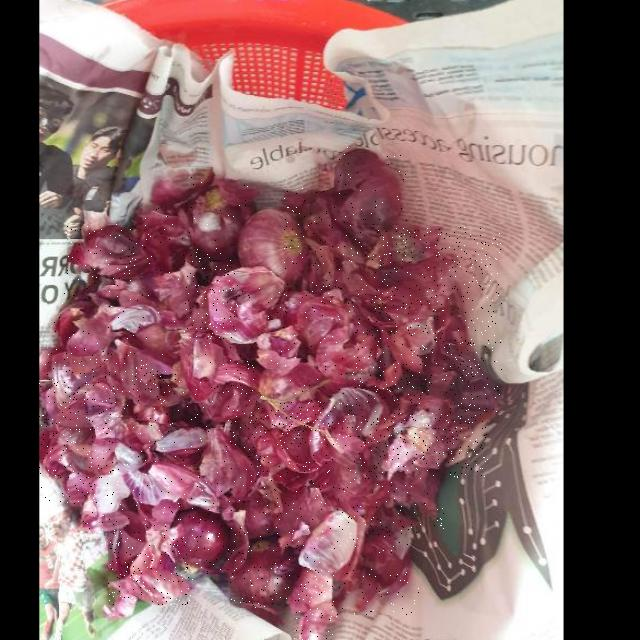biowaste: (357, 227, 502, 414), (40, 348, 147, 507), (218, 445, 378, 549), (226, 360, 341, 480), (115, 397, 217, 530), (47, 281, 184, 373), (285, 188, 389, 304), (255, 288, 354, 400), (372, 394, 488, 478), (129, 250, 237, 338), (335, 502, 419, 615), (109, 498, 193, 605), (334, 145, 407, 248), (179, 333, 260, 421), (316, 306, 401, 389), (309, 387, 399, 465), (108, 336, 185, 422), (207, 265, 286, 343), (189, 426, 260, 512), (235, 208, 313, 284), (80, 442, 145, 530), (182, 176, 249, 261), (303, 497, 369, 583), (357, 468, 444, 529), (170, 507, 249, 573), (68, 224, 151, 282), (231, 541, 302, 607), (140, 207, 193, 280), (294, 565, 338, 640)
